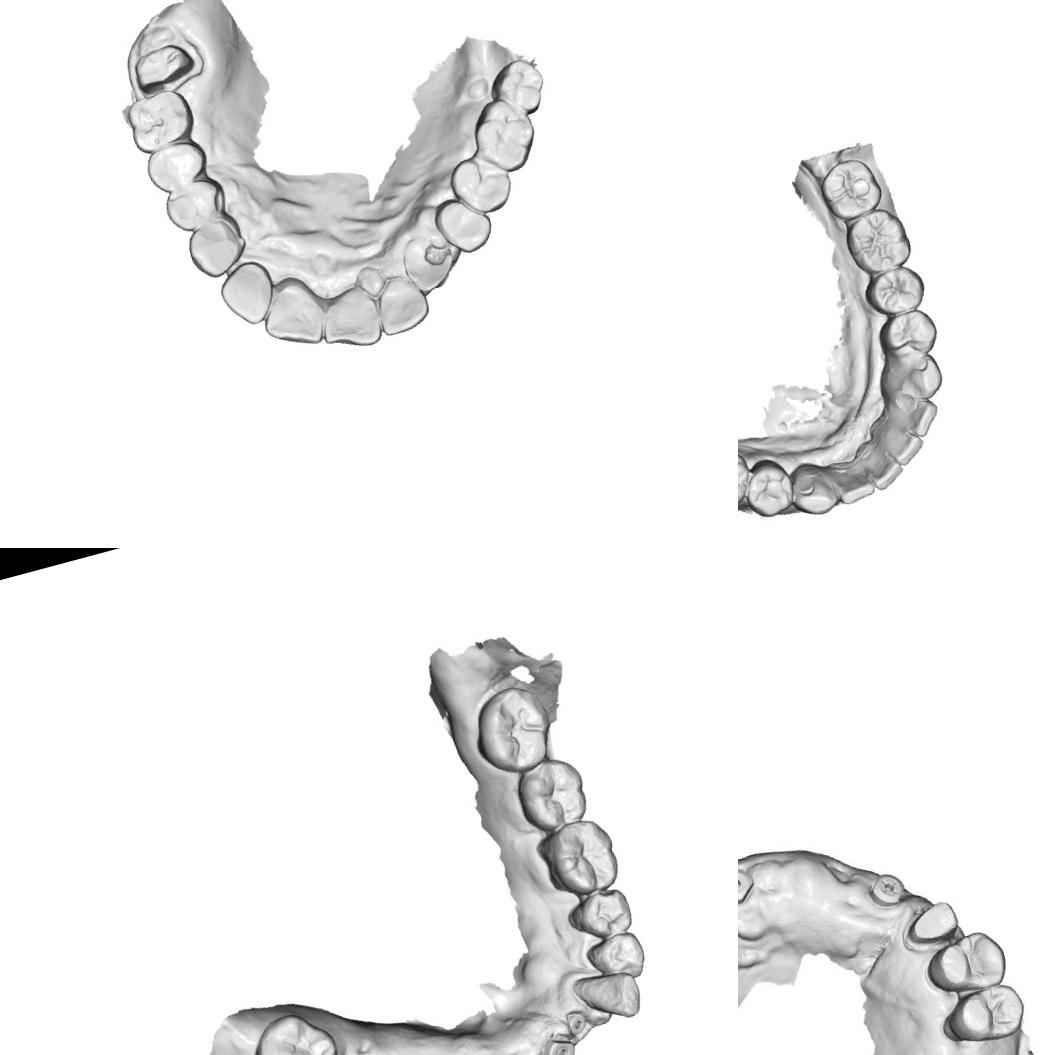canine: (570, 963, 646, 1030), (182, 213, 252, 282), (396, 229, 459, 299), (783, 454, 842, 522), (883, 348, 950, 407)
crown: (126, 32, 209, 100), (902, 895, 961, 950)
implant: (537, 1029, 579, 1055), (738, 860, 756, 908), (562, 1008, 589, 1036)
implant_plus: (863, 866, 909, 912)
incisor: (252, 269, 332, 355), (312, 282, 384, 356), (212, 256, 282, 331), (370, 270, 434, 337), (872, 416, 930, 472), (887, 394, 944, 443), (857, 440, 907, 494), (828, 455, 878, 506)
molar: (465, 678, 562, 781), (534, 812, 624, 902), (509, 749, 592, 836), (464, 91, 543, 178), (838, 201, 918, 279), (122, 84, 199, 158), (242, 1001, 346, 1055), (813, 152, 887, 225), (484, 53, 551, 122)
premolar: (920, 924, 1014, 998), (940, 980, 1030, 1052), (444, 148, 518, 220), (428, 188, 496, 259), (562, 882, 636, 946), (159, 173, 231, 236), (858, 260, 931, 322), (872, 303, 942, 364), (140, 136, 212, 195), (582, 927, 650, 989), (738, 458, 798, 522), (738, 442, 756, 514)
